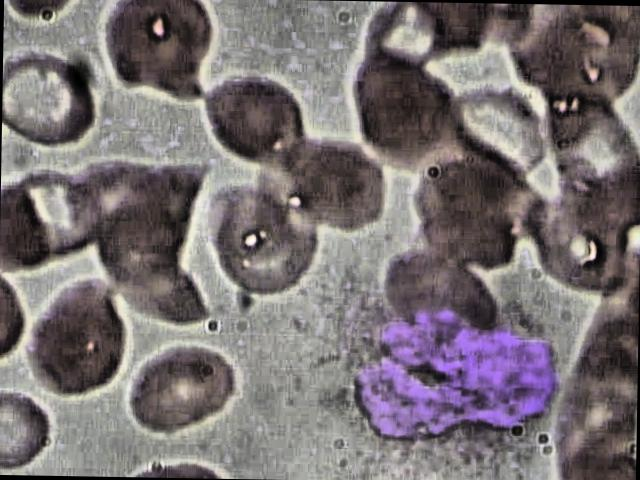RBC: (200, 174, 329, 302), (20, 273, 138, 403), (408, 154, 528, 274), (99, 0, 221, 113), (126, 330, 246, 436), (276, 132, 393, 230), (522, 200, 631, 298), (199, 74, 312, 168), (1, 48, 104, 150)
WBC: (291, 277, 582, 480)
